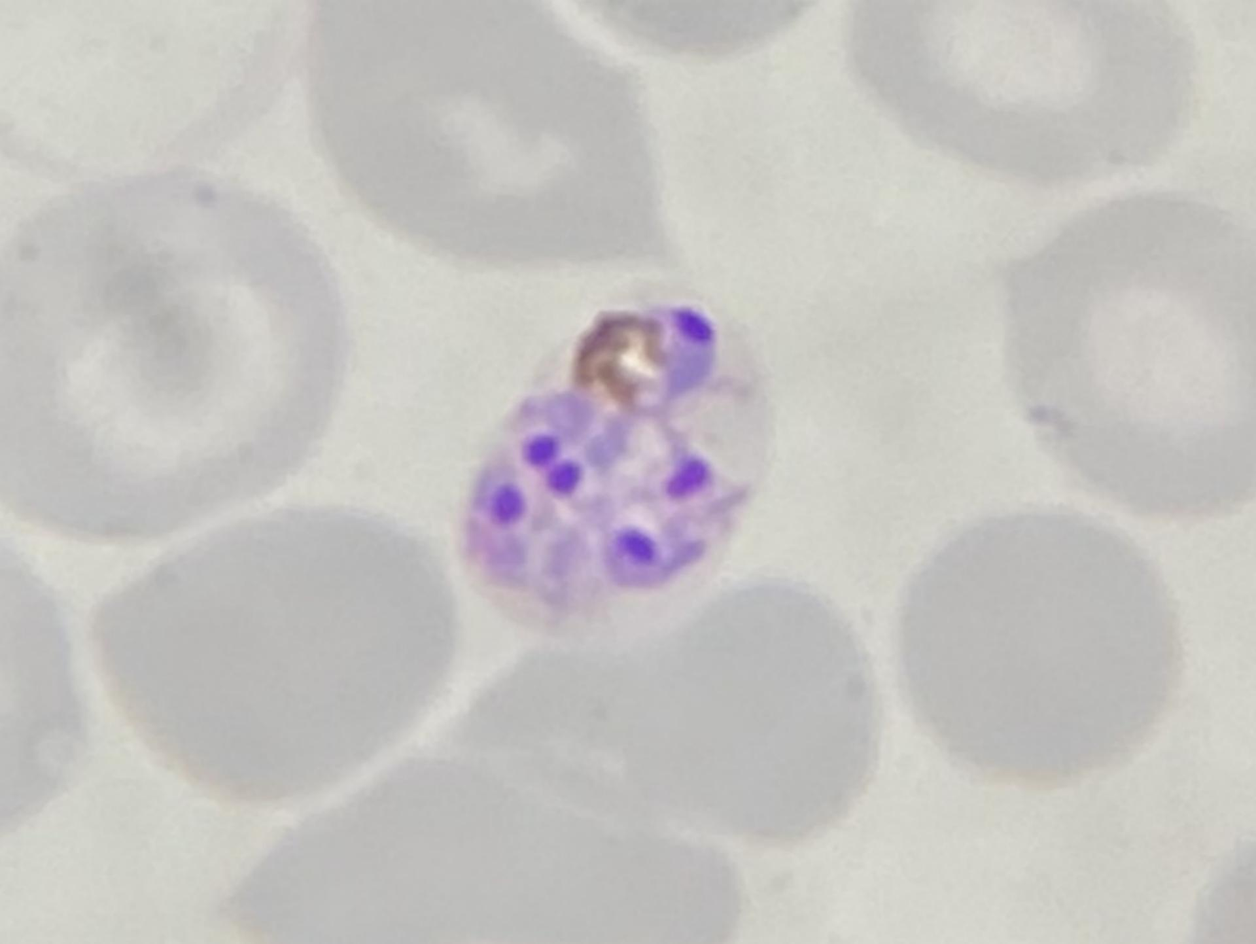Infected: (456, 282, 781, 636)
Uninfected: (209, 657, 728, 944), (11, 164, 347, 538), (301, 3, 679, 287), (100, 500, 440, 813), (983, 190, 1256, 515), (894, 500, 1188, 790), (844, 0, 1198, 202), (659, 579, 874, 848)
